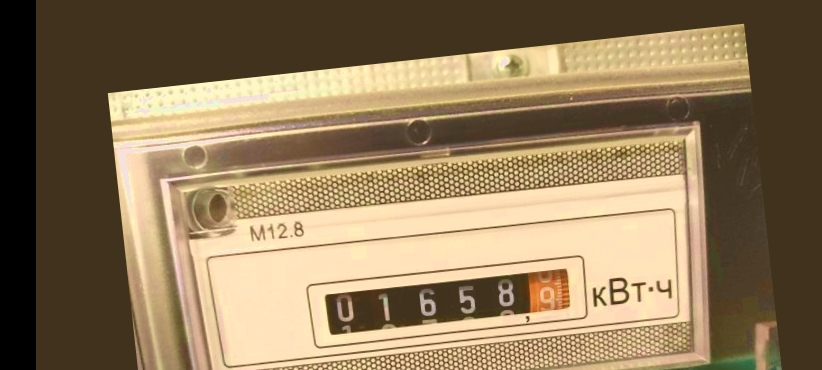0: (333, 290, 357, 324)
1: (377, 290, 393, 322)
5: (457, 282, 479, 315)
6: (417, 285, 440, 318)
8: (495, 275, 518, 309)
9: (536, 283, 557, 311)
screen: (298, 244, 596, 354)
